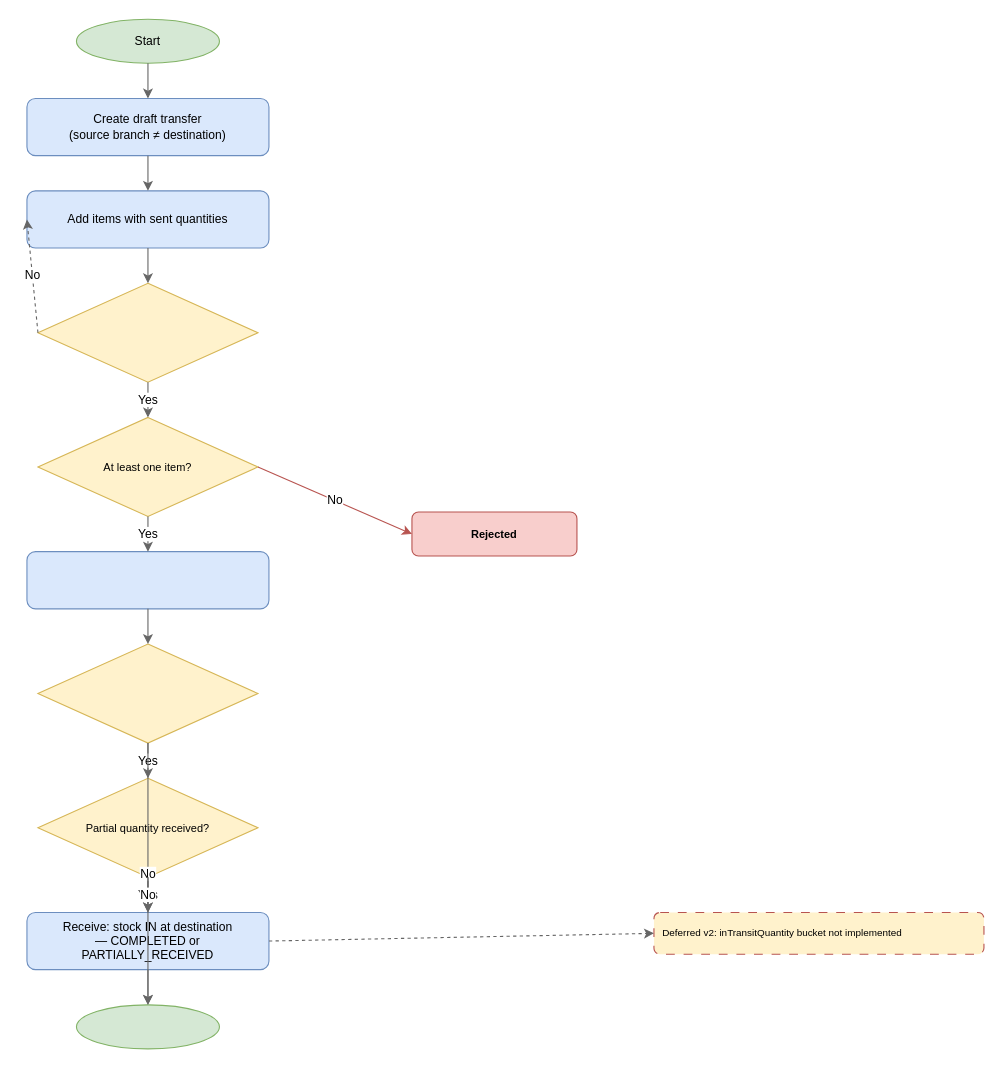
The diagram is 1003 pixels wide and 1068 high, and some of its shapes have lost their labels. The shapes that lost their labels are listed below. From the top down, each one's box as (x1, y1, x2, y2) in pixels, then its label:
(37, 282, 258, 382): Dispatch goods?
(26, 551, 269, 609): Dispatch: stock OUT at source — IN_TRANSIT
(37, 643, 258, 743): Receive at destination?
(75, 1004, 219, 1049): End
